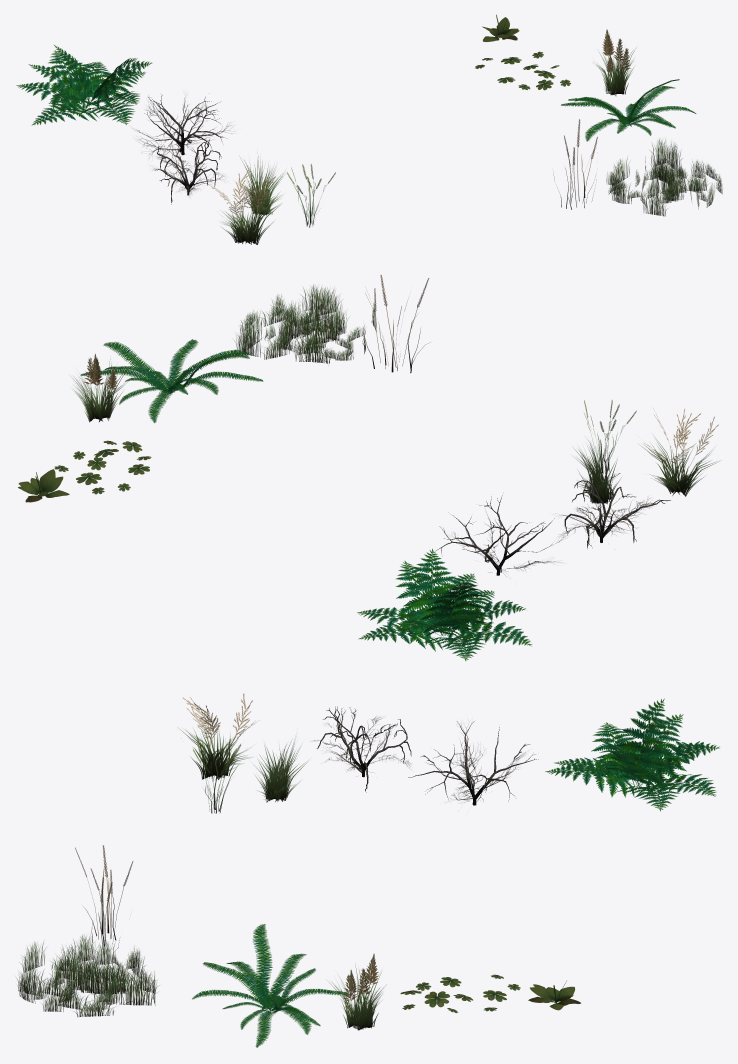
File: Shrubs.glb
3 views of the same model, one above another, from view 1: azimuth 30°, elevation 25°; view 2: azimuth 150°, elevation 25°; view 3: azimuth 270°, elevation 25° (orthographic). The views are drawn at different scales.
Visible parts, largest first — view 1: SM_Fern_01_Ferns_0, SM_Grass_01_Grass_0, SM_Fern_02_Ferns_0, SM_Grass_06_Grass_0, SM_DeadBush_01_Dead_Bush_0, SM_Grass_03_Grass_0, SM_DeadBush_02_Dead_Bush_0, SM_Grass_02_Grass_0, SM_Grass_07_Grass_0, SM_Grass_05_Grass_0, SM_Grass_04_Grass_0, SM_Grass_08_Grass_0; view 2: SM_Fern_01_Ferns_0, SM_Grass_01_Grass_0, SM_Fern_02_Ferns_0, SM_Grass_06_Grass_0, SM_DeadBush_02_Dead_Bush_0, SM_Grass_03_Grass_0, SM_DeadBush_01_Dead_Bush_0, SM_Grass_07_Grass_0, SM_Grass_02_Grass_0, SM_Grass_08_Grass_0, SM_Grass_05_Grass_0, SM_Grass_04_Grass_0; view 3: SM_Fern_01_Ferns_0, SM_Grass_01_Grass_0, SM_Fern_02_Ferns_0, SM_Grass_06_Grass_0, SM_Grass_03_Grass_0, SM_DeadBush_02_Dead_Bush_0, SM_DeadBush_01_Dead_Bush_0, SM_Grass_02_Grass_0, SM_Grass_07_Grass_0, SM_Grass_05_Grass_0, SM_Grass_08_Grass_0, SM_Grass_04_Grass_0.
Boxes of the visible parts, x1=… form: SM_Fern_01_Ferns_0: x1=16, y1=45, x2=152, y2=125; SM_Grass_01_Grass_0: x1=606, y1=138, x2=722, y2=216; SM_Fern_02_Ferns_0: x1=561, y1=79, x2=696, y2=141; SM_Grass_06_Grass_0: x1=208, y1=170, x2=280, y2=244; SM_DeadBush_01_Dead_Bush_0: x1=137, y1=94, x2=231, y2=159; SM_Grass_03_Grass_0: x1=596, y1=29, x2=634, y2=95; SM_DeadBush_02_Dead_Bush_0: x1=153, y1=139, x2=224, y2=204; SM_Grass_02_Grass_0: x1=237, y1=156, x2=283, y2=215; SM_Grass_07_Grass_0: x1=475, y1=51, x2=571, y2=90; SM_Grass_05_Grass_0: x1=553, y1=119, x2=597, y2=209; SM_Grass_04_Grass_0: x1=287, y1=164, x2=335, y2=227; SM_Grass_08_Grass_0: x1=482, y1=14, x2=519, y2=41; SM_Fern_01_Ferns_0: x1=357, y1=548, x2=531, y2=660; SM_Grass_01_Grass_0: x1=234, y1=285, x2=376, y2=363; SM_Fern_02_Ferns_0: x1=80, y1=339, x2=263, y2=422; SM_Grass_06_Grass_0: x1=639, y1=408, x2=719, y2=496; SM_DeadBush_02_Dead_Bush_0: x1=560, y1=455, x2=670, y2=548; SM_Grass_03_Grass_0: x1=72, y1=353, x2=127, y2=422; SM_DeadBush_01_Dead_Bush_0: x1=435, y1=495, x2=565, y2=576; SM_Grass_07_Grass_0: x1=54, y1=440, x2=151, y2=494; SM_Grass_02_Grass_0: x1=575, y1=444, x2=620, y2=503; SM_Grass_08_Grass_0: x1=18, y1=469, x2=69, y2=502; SM_Grass_05_Grass_0: x1=363, y1=275, x2=430, y2=373; SM_Grass_04_Grass_0: x1=584, y1=400, x2=636, y2=473; SM_Fern_01_Ferns_0: x1=545, y1=698, x2=719, y2=811; SM_Grass_01_Grass_0: x1=16, y1=935, x2=157, y2=1016; SM_Fern_02_Ferns_0: x1=192, y1=924, x2=351, y2=1047; SM_Grass_06_Grass_0: x1=180, y1=693, x2=256, y2=780; SM_Grass_03_Grass_0: x1=330, y1=953, x2=383, y2=1030; SM_DeadBush_02_Dead_Bush_0: x1=314, y1=706, x2=411, y2=792; SM_DeadBush_01_Dead_Bush_0: x1=408, y1=721, x2=538, y2=805; SM_Grass_02_Grass_0: x1=256, y1=741, x2=306, y2=802; SM_Grass_07_Grass_0: x1=400, y1=974, x2=520, y2=1013; SM_Grass_05_Grass_0: x1=75, y1=845, x2=133, y2=948; SM_Grass_08_Grass_0: x1=528, y1=981, x2=581, y2=1010; SM_Grass_04_Grass_0: x1=193, y1=738, x2=241, y2=813.
Size of the model in its own units: 1.96 by 0.3119 by 1.95.
Materials: 5 (5 with a texture image).
